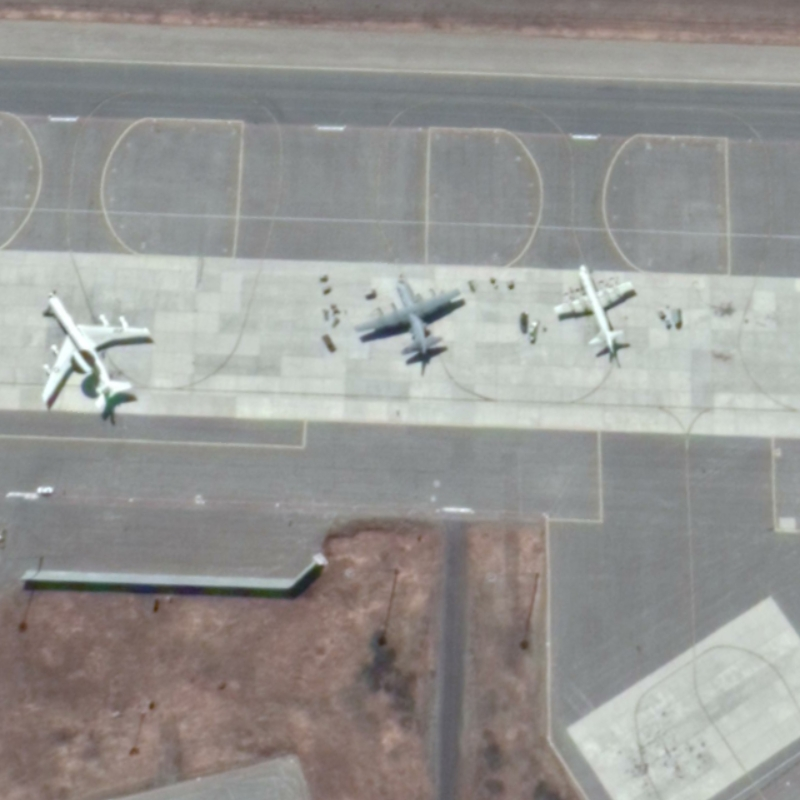A2: (344, 272, 474, 364)
A7: (27, 283, 153, 425)
A9: (549, 255, 651, 363)
